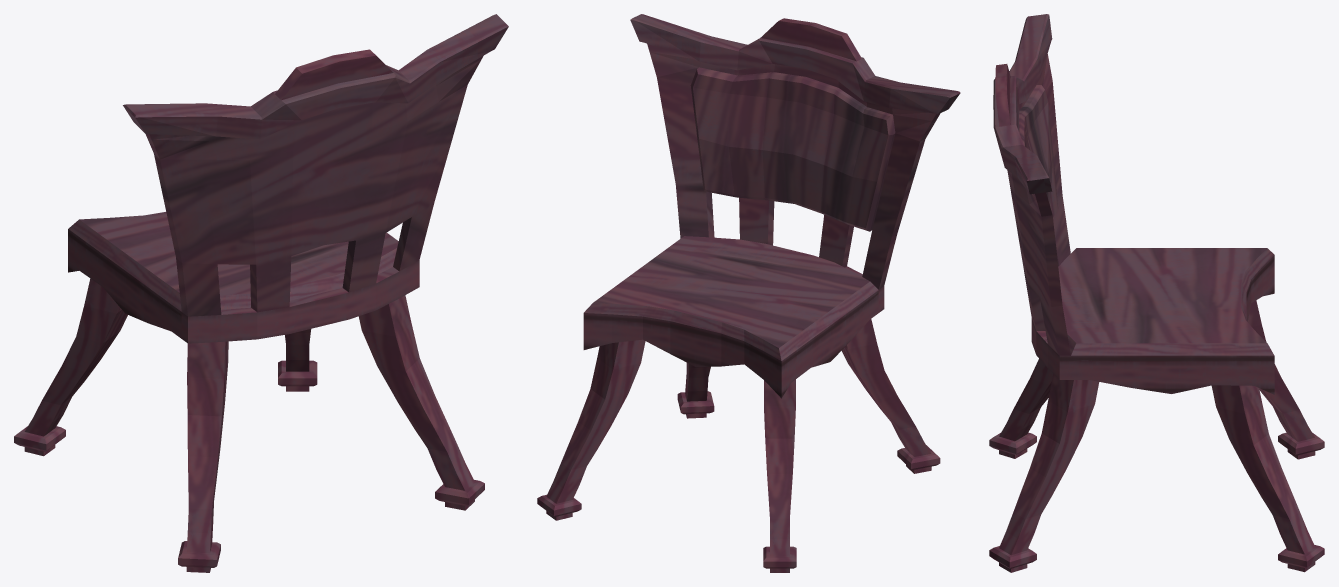
Rendered from PROP_DiningChair.fbx.
3 views of the same model, side by side, from view 1: azimuth 30°, elevation 25°; view 2: azimuth 150°, elevation 25°; view 3: azimuth 270°, elevation 25° (orthographic). The views are drawn at different scales.
Visible parts, largest first — view 1: PROP_DiningChair; view 2: PROP_DiningChair; view 3: PROP_DiningChair.
Part boxes in pixels (box(x1,y1,x2,y2)): PROP_DiningChair: box(14, 14, 508, 572); PROP_DiningChair: box(537, 14, 960, 572); PROP_DiningChair: box(989, 14, 1324, 572).
Size of the model in its own units: 115 by 142 by 99.39.
1 material, 1 textured.
